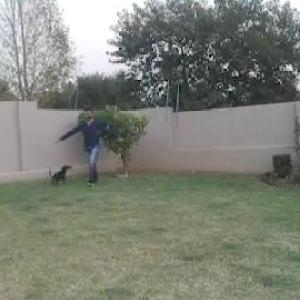land: (67, 93, 143, 197)
